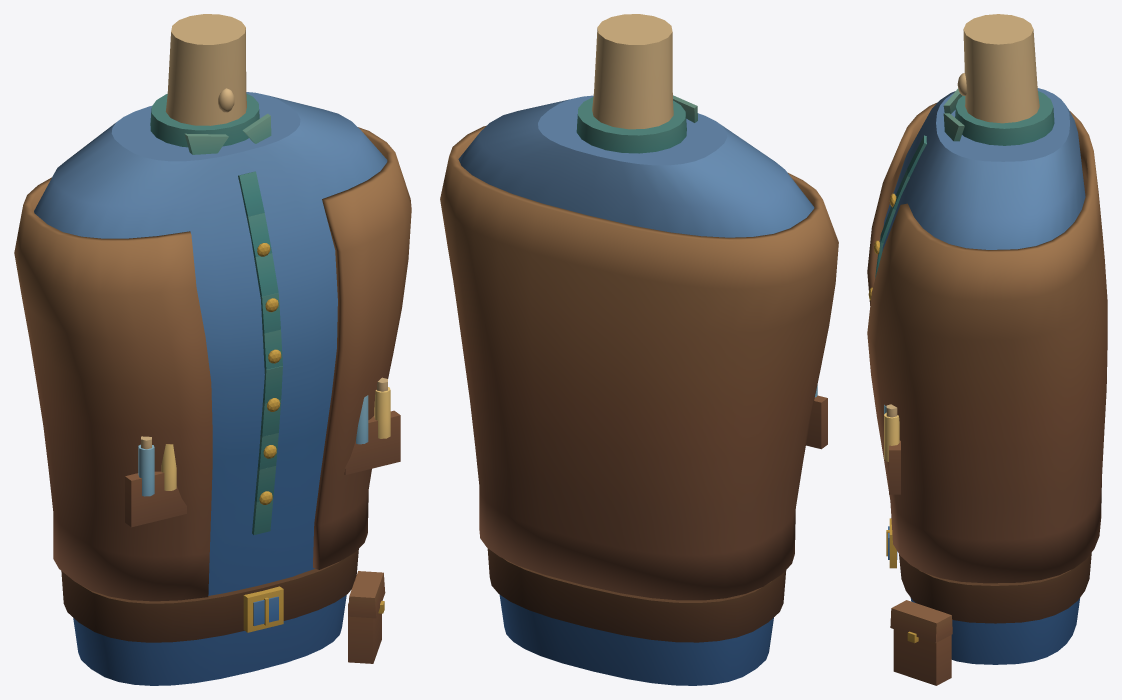
The model's file is merchant_lio_torso.glb.
3 renders of one model, left to right at view 1: azimuth 30°, elevation 25°; view 2: azimuth 150°, elevation 25°; view 3: azimuth 270°, elevation 25°, orthographic. The views are drawn at different scales.
Parts seen in each view (by area): view 1: merchant_lio_torso; view 2: merchant_lio_torso; view 3: merchant_lio_torso.
Boxes of the visible parts, <box> form: merchant_lio_torso: <box>14,14,411,685</box>; merchant_lio_torso: <box>440,14,838,685</box>; merchant_lio_torso: <box>867,14,1107,685</box>.
Bounding box in the file's own units: 1.32 × 2.14 × 0.7886.
Materials: 1 (1 with a texture image).
